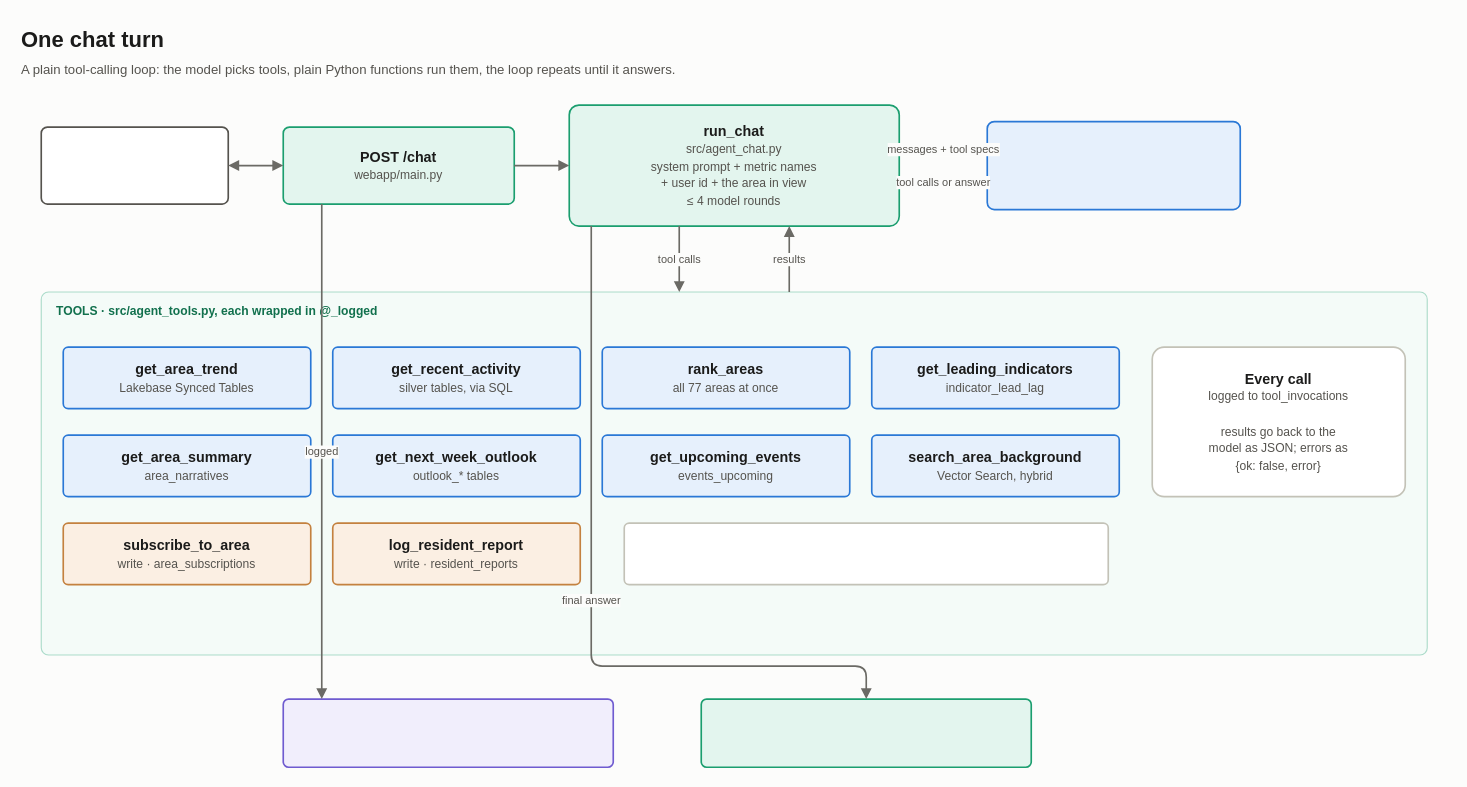
This 1467x787 diagram has some shape labels left out. The shapes that lost their labels are listed below. From the top down, each one's centre as x and y in pixels, then its label:
At pixel 134 165: "Resident chat panel, any view".
At pixel 1113 165: "Foundation Model API Claude Sonnet OpenAI chat-completions protocol".
At pixel 866 553: "Writes refresh the UI toast + My Areas, through an HX-Trigger header".
At pixel 448 733: "chat_turns question, tool trajectory, answer, latency, thumbs up/down".
At pixel 866 733: "The answer Markdown, raw HTML escaped".
